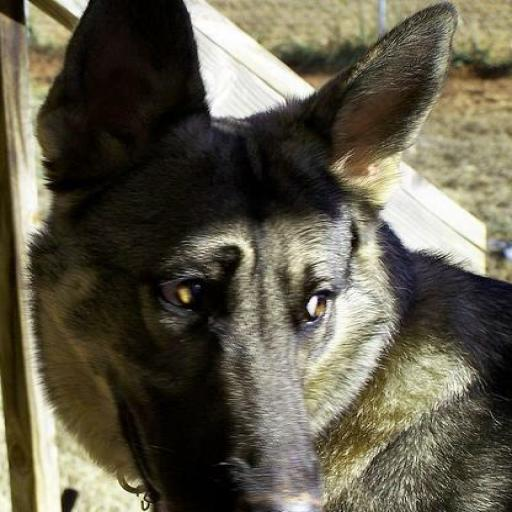dog_face: (26, 13, 455, 512)
